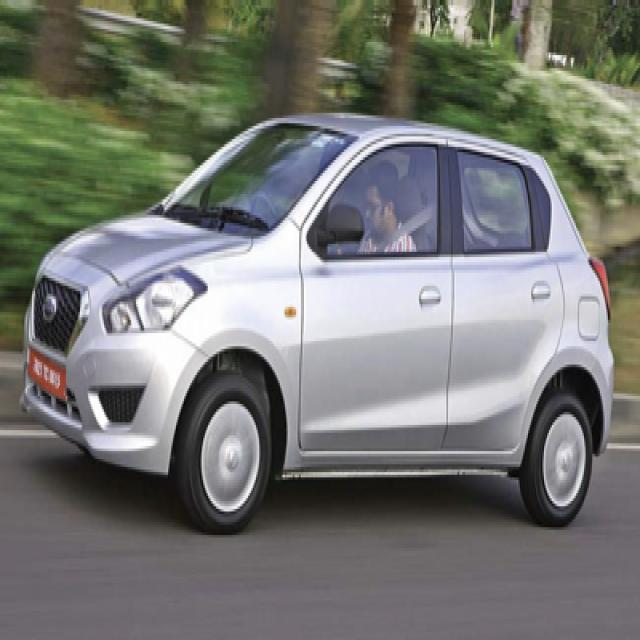licence: (27, 352, 75, 396)
